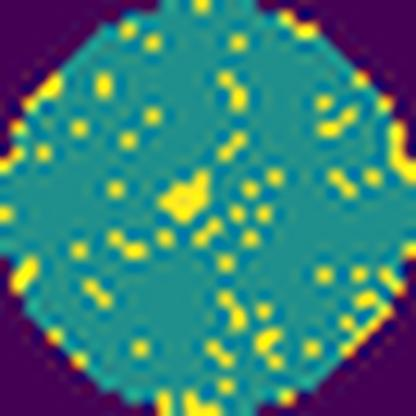Center: (159, 162, 214, 230)
